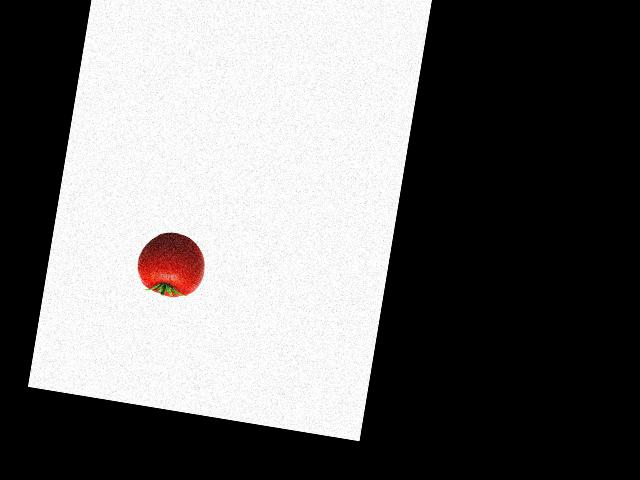tomato: (133, 227, 202, 300)
